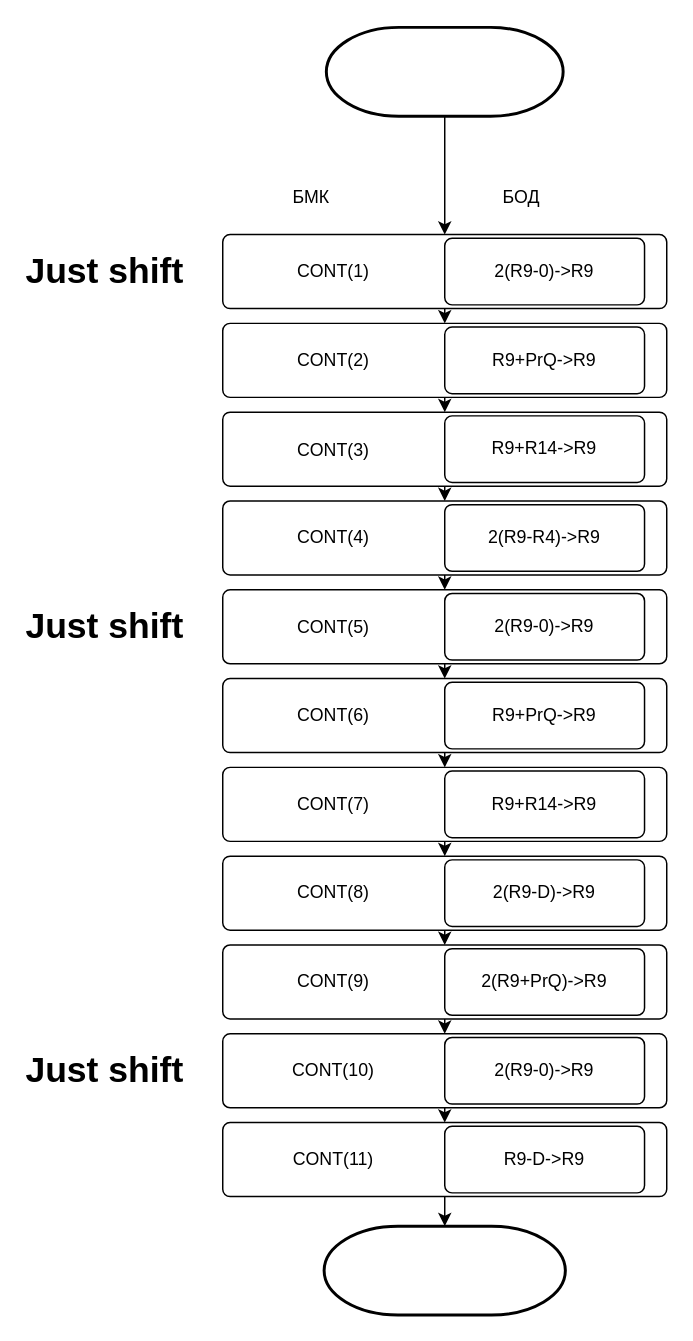
Image size: 693x1341. Some labels were removed from this diagram. Here are the shapes that lost their labels. From the top down, the centre of each, then its label:
At pixel 444 71: "Початок".
At pixel 444 1270: "Кінець".
